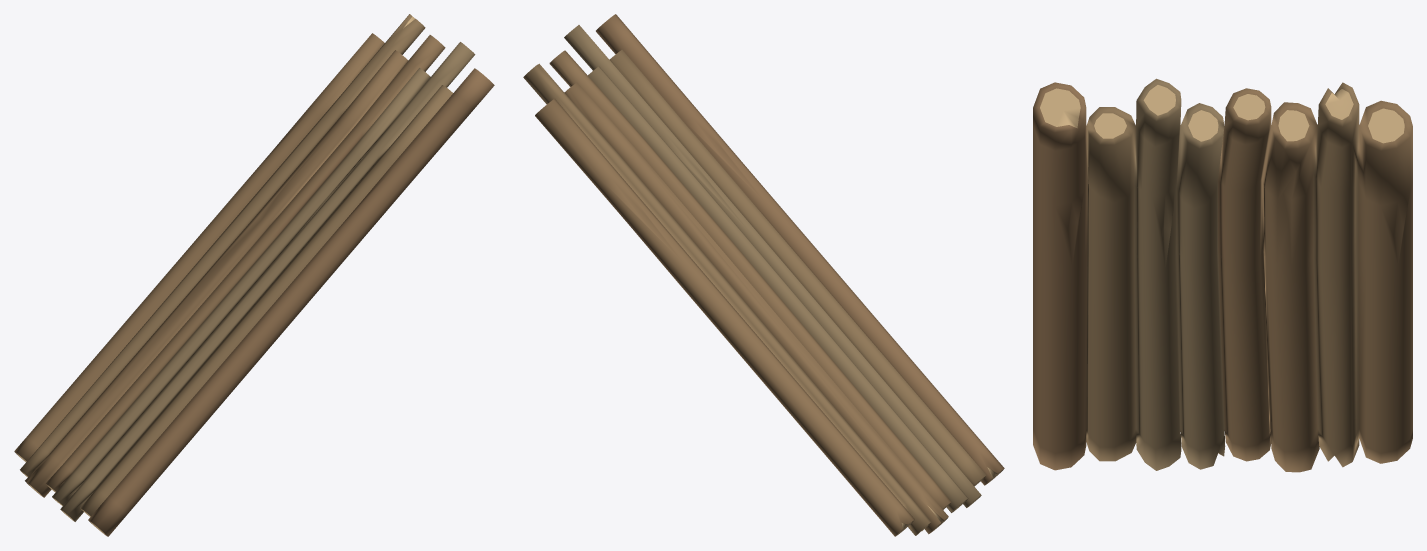
File: rpgpp_ag_roof_01b_9x4x3_half.fbx
3 views of the same model, side by side, from view 1: azimuth 30°, elevation 25°; view 2: azimuth 150°, elevation 25°; view 3: azimuth 270°, elevation 25° (orthographic). The views are drawn at different scales.
Parts seen in each view (by area): view 1: rpgpp_ag_roof_01b_9x4x3_half; view 2: rpgpp_ag_roof_01b_9x4x3_half; view 3: rpgpp_ag_roof_01b_9x4x3_half.
Part boxes in pixels (<box>): rpgpp_ag_roof_01b_9x4x3_half: <box>14,14,494,536</box>; rpgpp_ag_roof_01b_9x4x3_half: <box>523,14,1004,536</box>; rpgpp_ag_roof_01b_9x4x3_half: <box>1033,78,1412,472</box>.
Bounding box in the file's own units: 7.53 × 6.71 × 3.
